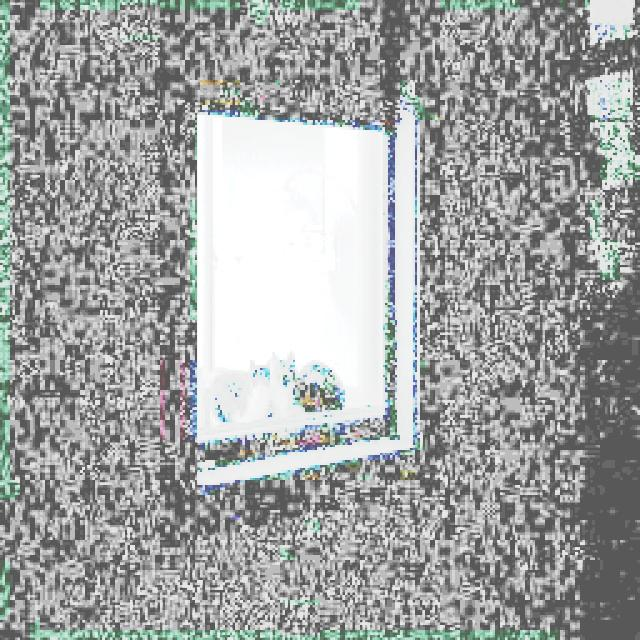cat: (267, 330, 371, 428), (211, 335, 279, 436)
